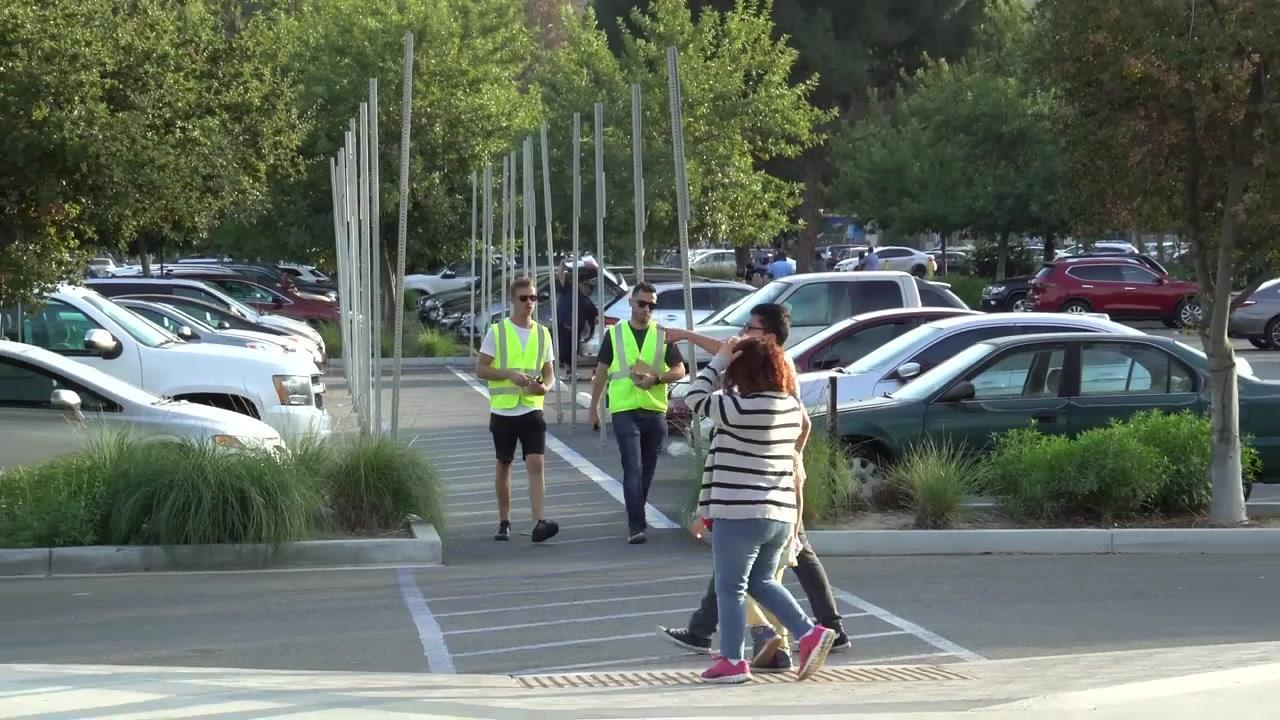vest: (484, 318, 551, 413), (604, 319, 668, 416)
